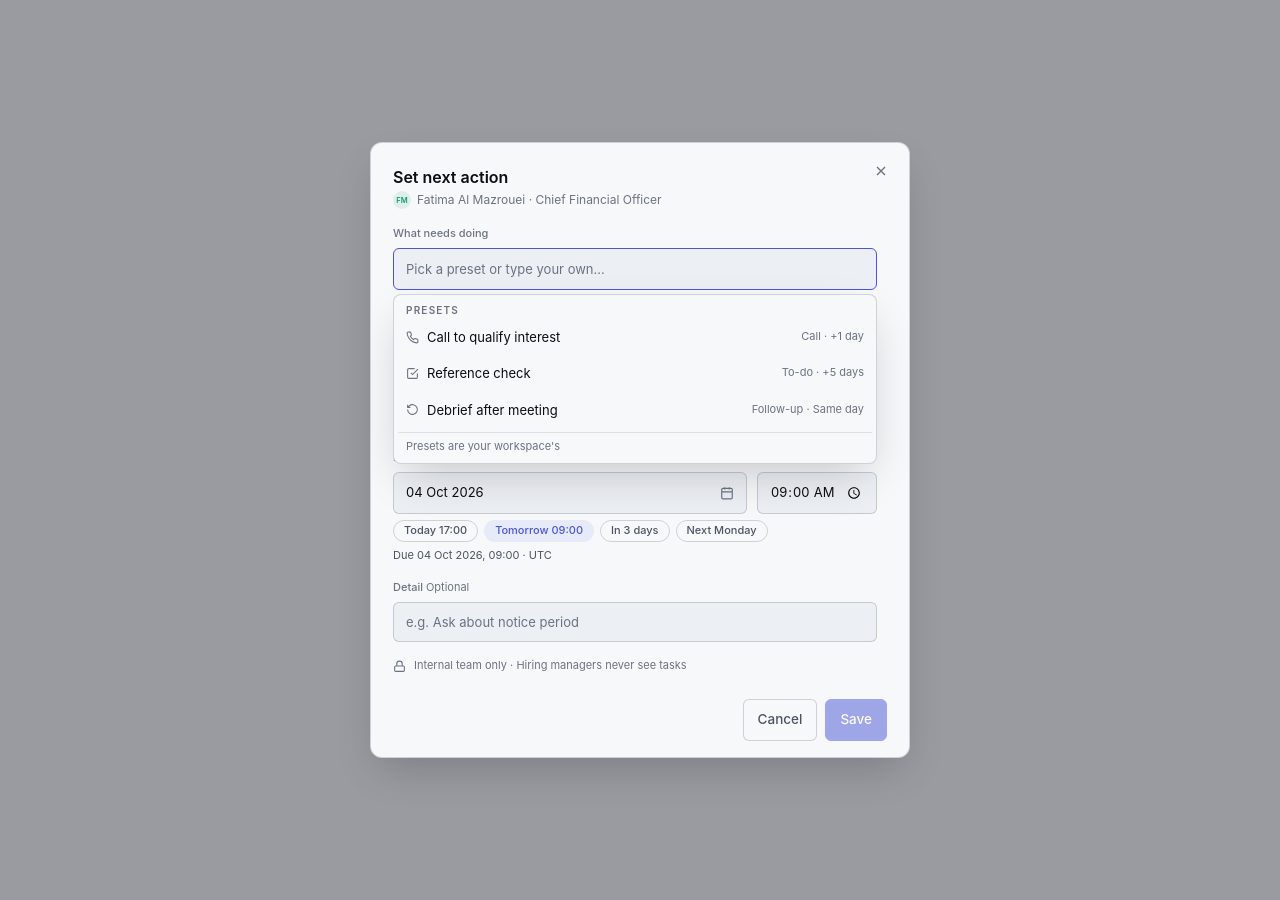
Test case: NextActionModal › tells a colleague they have it, and saves and notifies them
Expected: the option "Call to qualify interest Call · +1 day" is shown, [406,329,864,345]
Type "Call him back" into the dropdown named "What needs doing" at (635, 269), box [393,248,877,290]
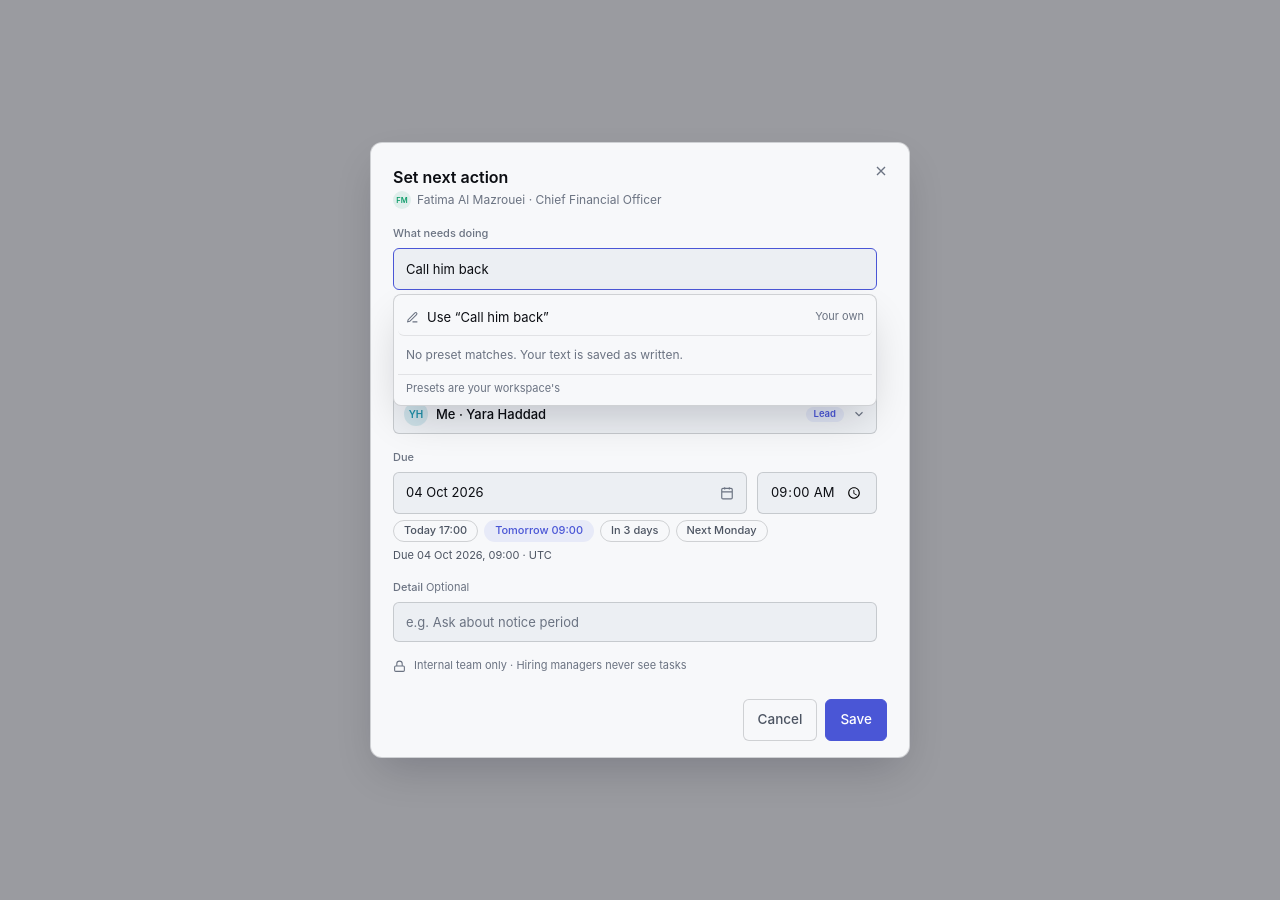
Click the button named "Assign to" at (491, 414), box [393,394,877,434]
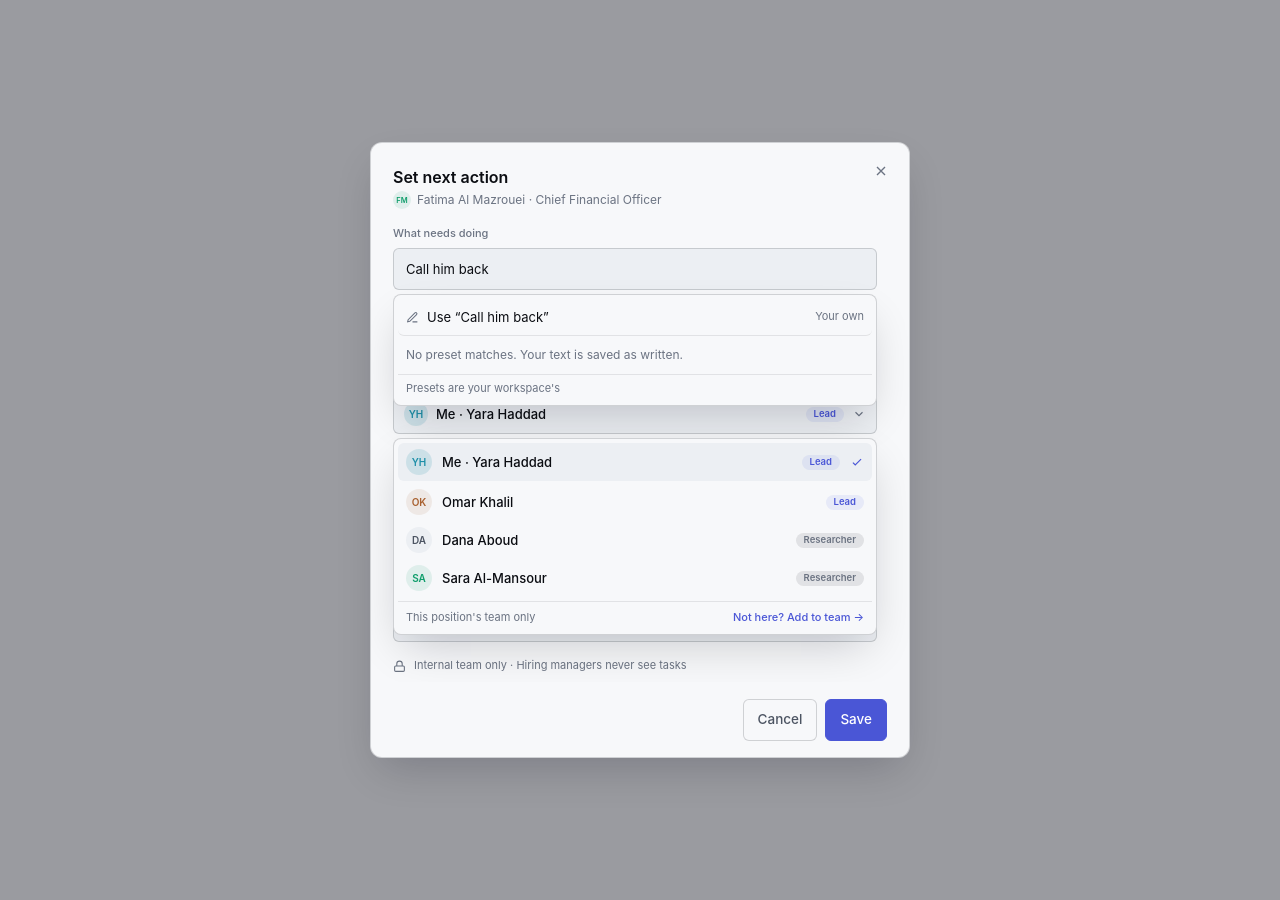
Click the option "SA Sara Al-Mansour Researcher" at (494, 578), box [398,559,872,597]
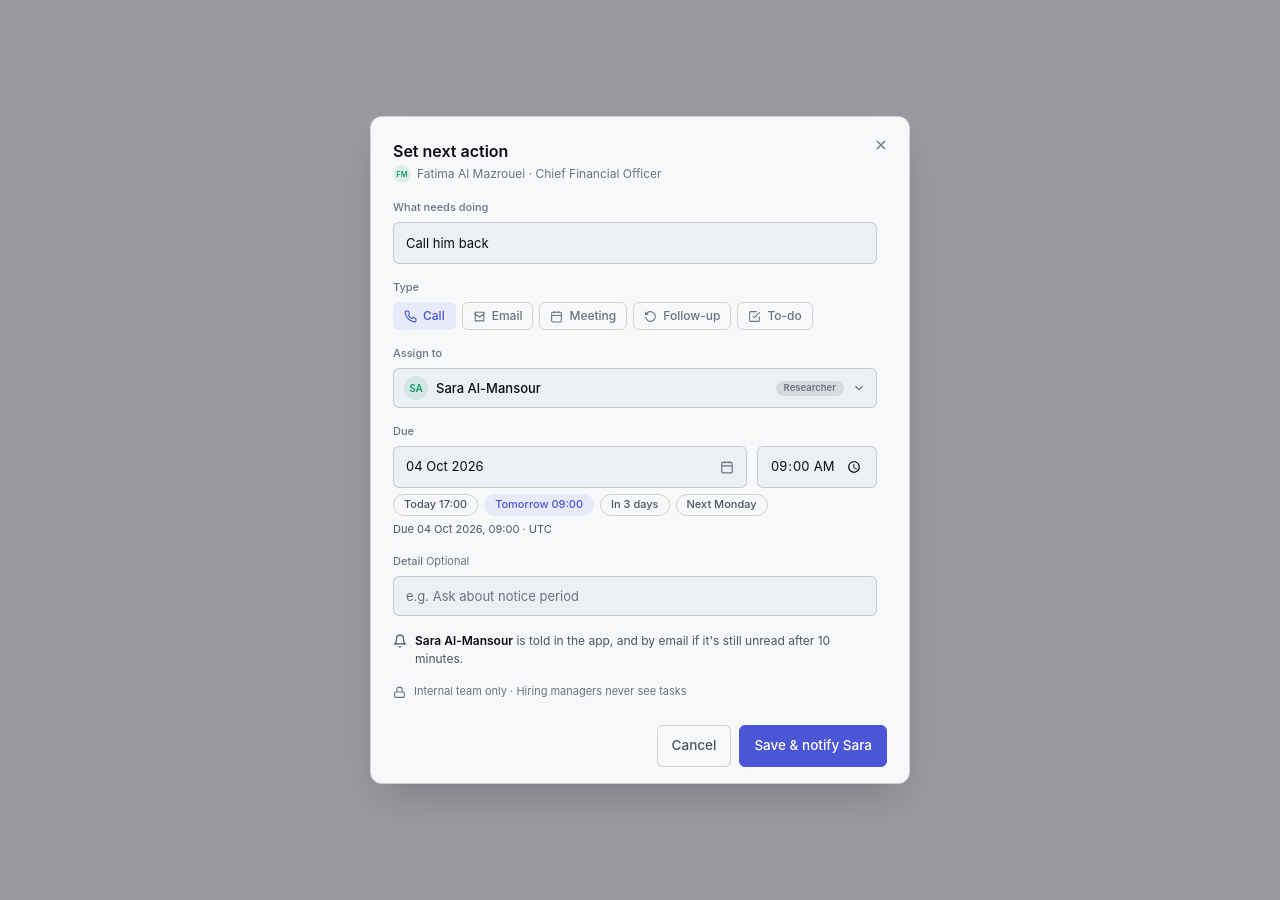
Result: the text "is told in the app, and by email if it's still unread after 10 minutes" shows "Sara Al-Mansour is told in the app, and by email if it's still unread after 10 minutes." at [415,632,877,668]
Click the button "Save & notify Sara" at (813, 746), box [739,725,887,767]
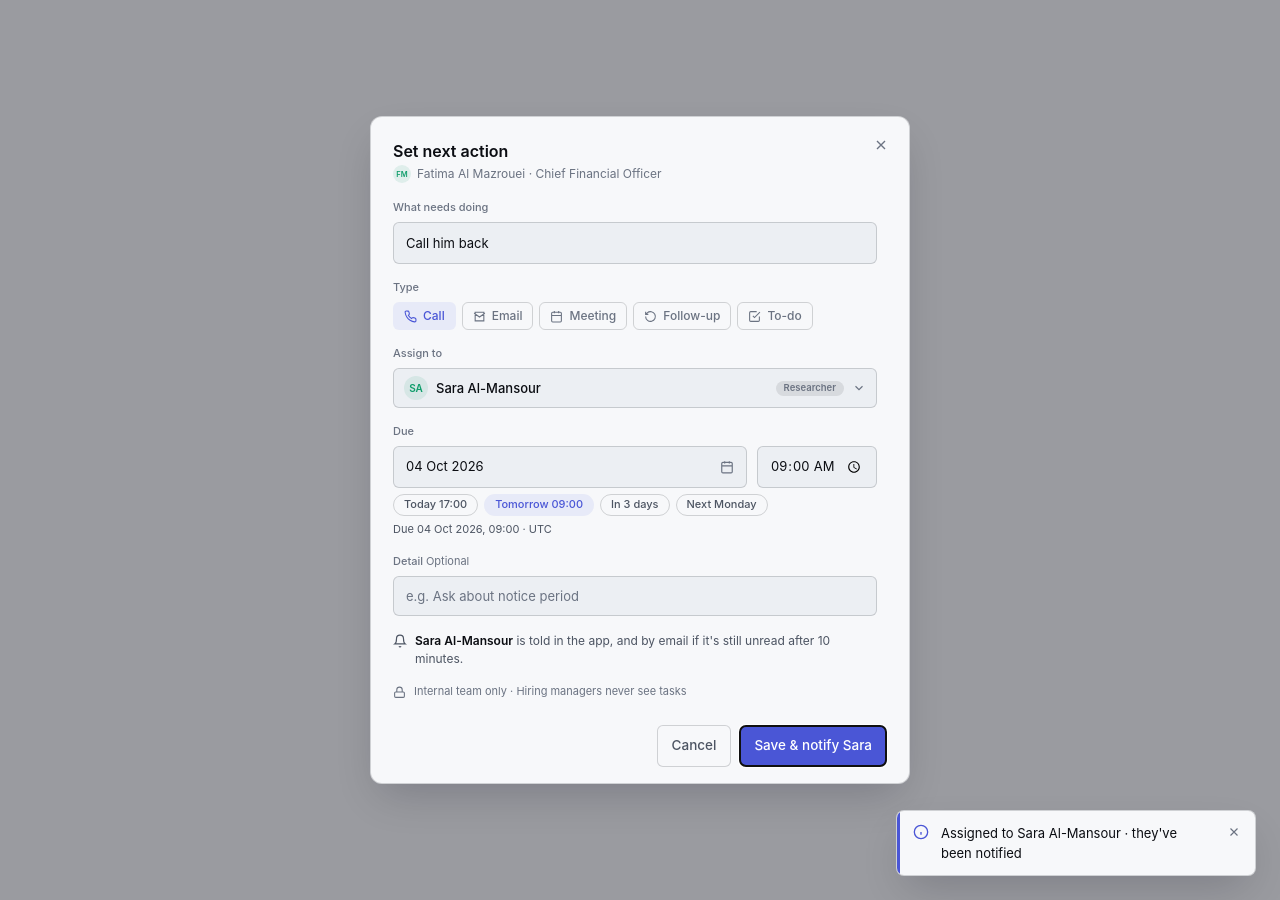
Result: the text "Assigned to Sara Al-Mansour · they've been notified" is shown at [941,823,1211,863]
